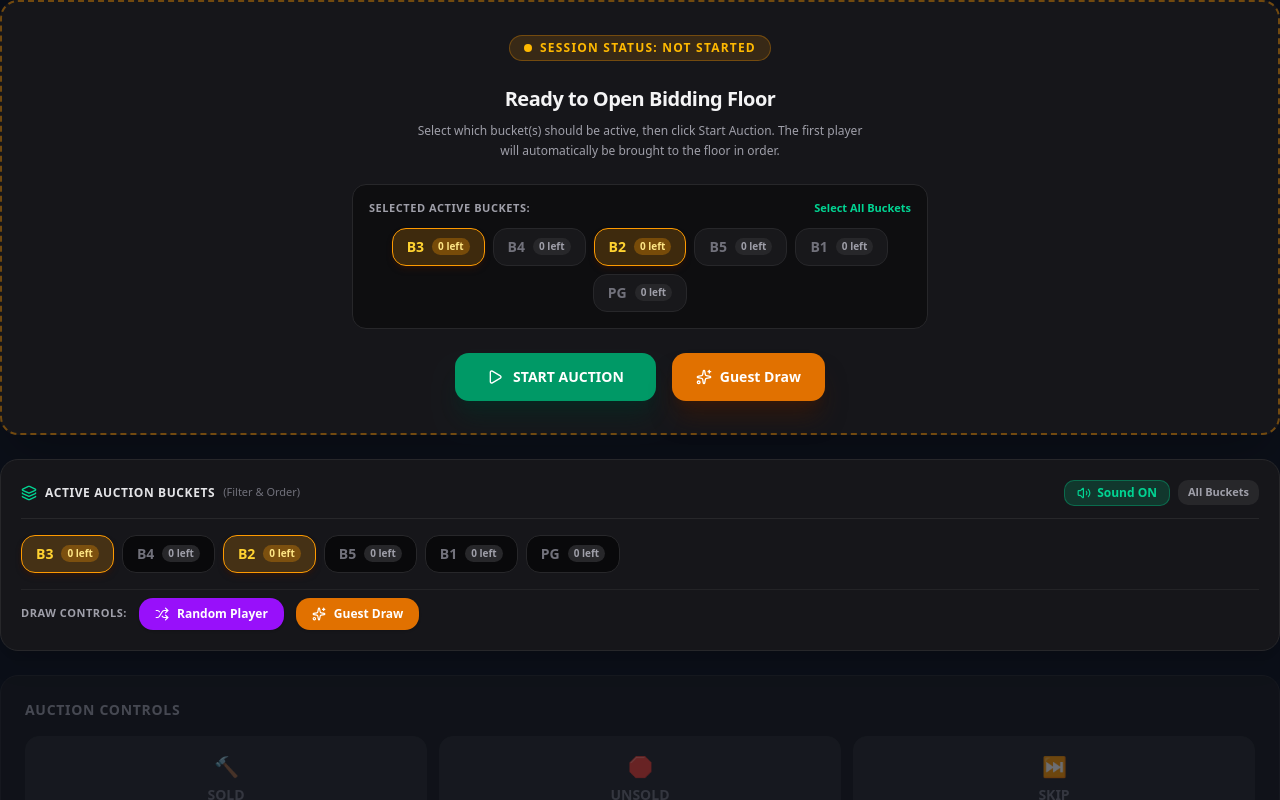
Test: Phase 5.2 — Start Mode Dialog, Guest Draw & Transitions › 1. Start Mode Dialog Workflow › opens Start-Mode Dialog with options when NOT_STARTED and Start Auction is clicked
Note: Click Start Auction
What coordinates should you click on to do the following:
click the button "START AUCTION"
I would click on:
 (555, 377)
Its box is [455, 353, 656, 401].
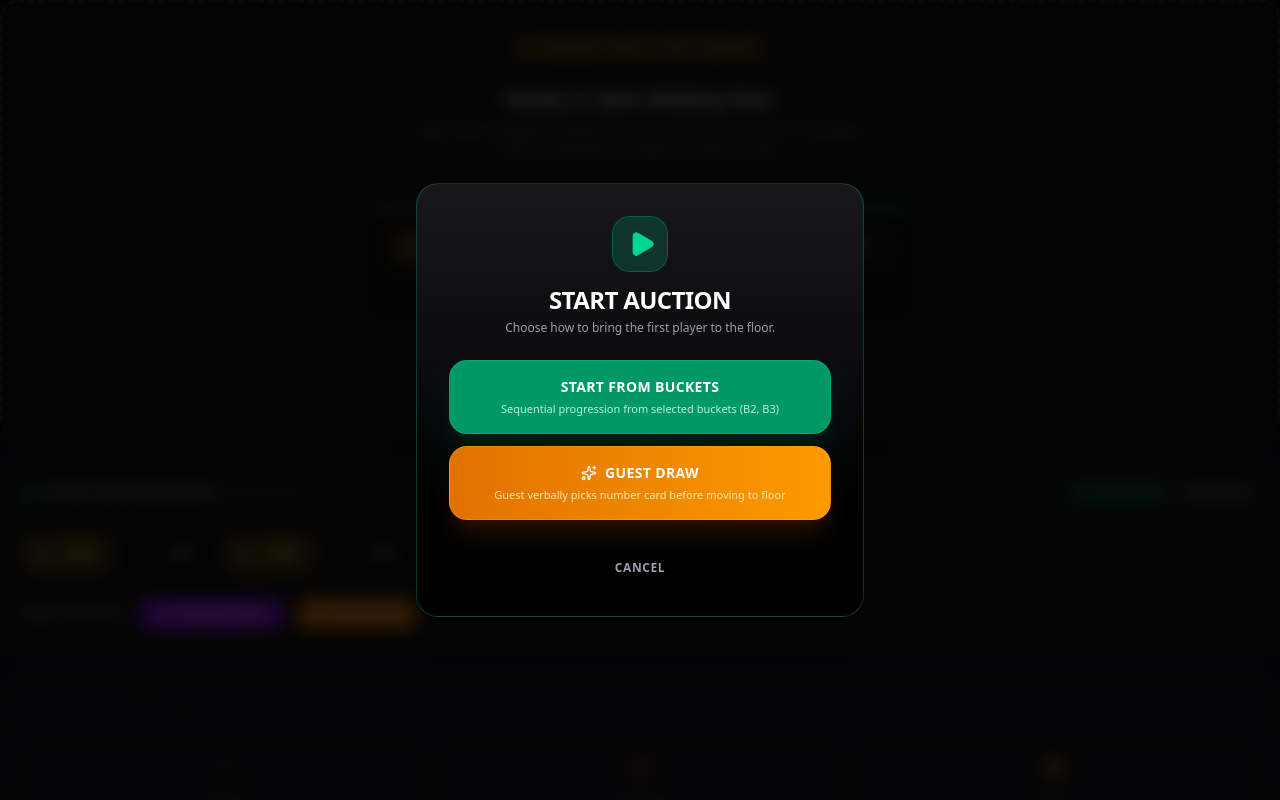
Expected: the dialog is shown
Expected: the text "Choose how to bring the first player to the floor." is shown, [505, 320, 775, 336]
Expected: the button "START FROM BUCKETS" is shown, [449, 360, 831, 434]
